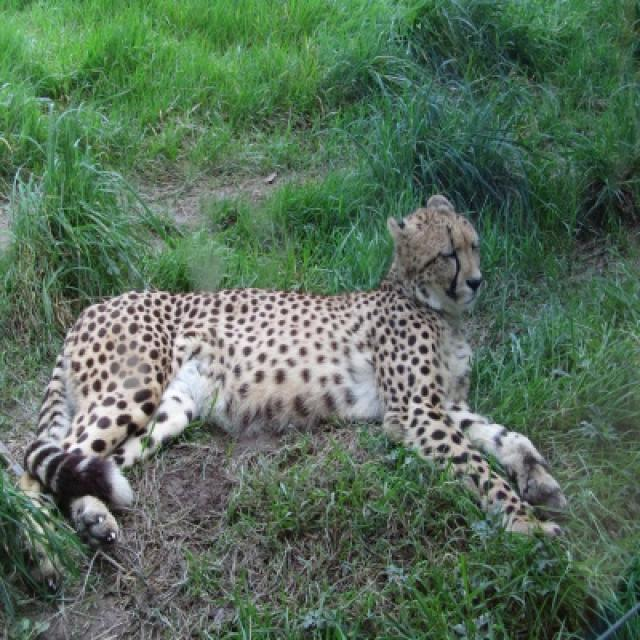Cheetah: (24, 197, 568, 552)
